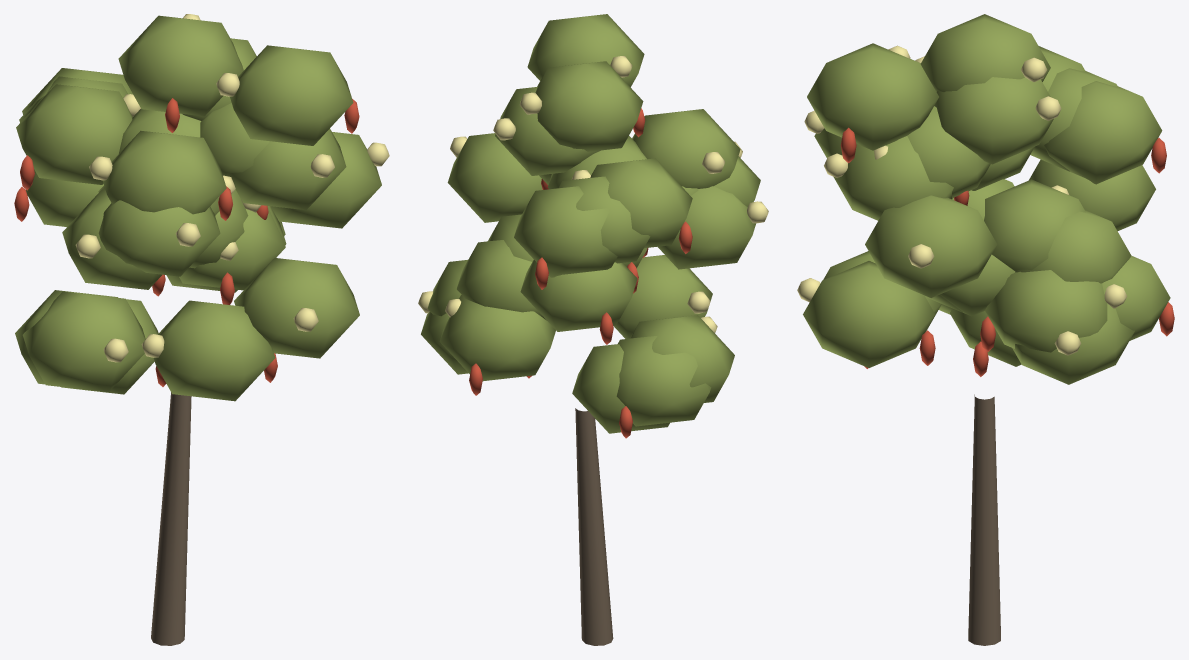
Rendered from young-b.lod0.glb.
The picture shows the model from 3 angles, left to right: view 1: azimuth 30°, elevation 25°; view 2: azimuth 150°, elevation 25°; view 3: azimuth 270°, elevation 25°; orthographic projection. The views are drawn at different scales.
Parts seen in each view (by area): view 1: foliage, bark, flowers, fruit; view 2: foliage, bark, flowers, fruit; view 3: foliage, bark, flowers, fruit.
Part boxes in pixels (x1,y1,x2,y2): foliage: [15, 15, 381, 401]; bark: [151, 392, 191, 645]; flowers: [75, 14, 389, 362]; fruit: [14, 98, 359, 386]; foliage: [421, 14, 760, 433]; bark: [575, 408, 613, 645]; flowers: [418, 56, 768, 332]; fruit: [469, 108, 692, 438]; foliage: [803, 14, 1170, 384]; bark: [968, 394, 1000, 645]; flowers: [797, 45, 1127, 355]; fruit: [840, 127, 1174, 376].
Size of the model in its own units: 1.68 by 3 by 1.64.
